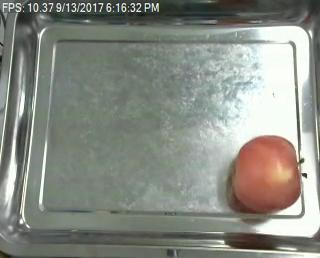apple: (230, 135, 311, 215)
